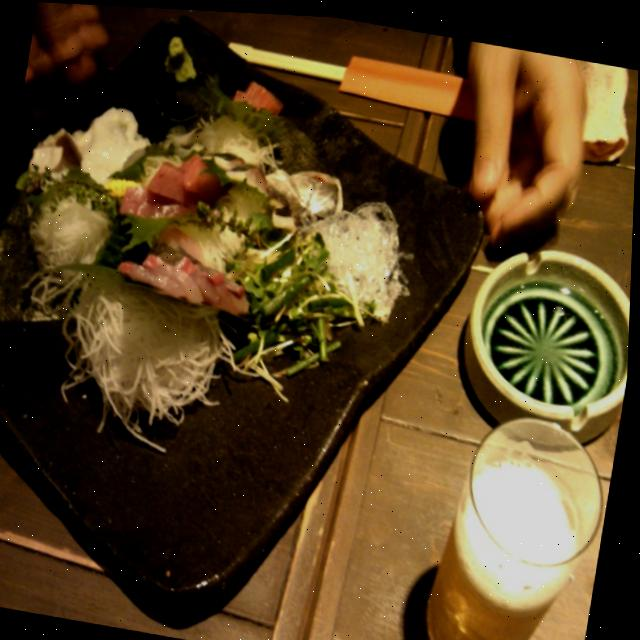刺身生食: (5, 75, 391, 355)
